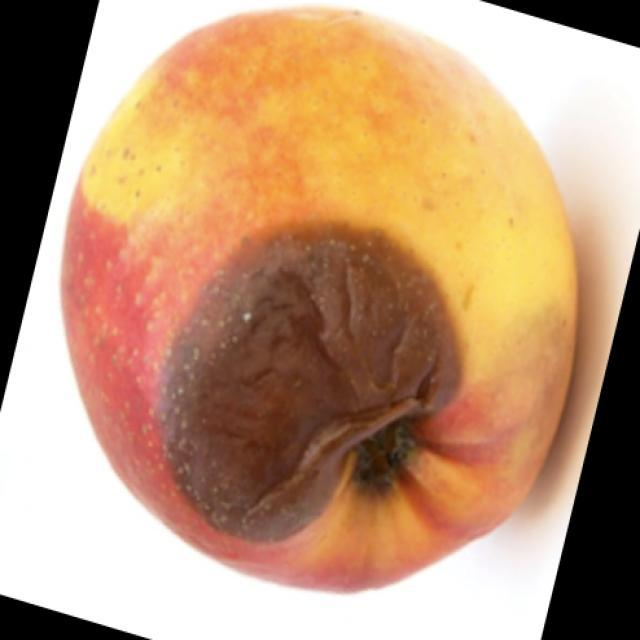Rotten: (80, 23, 577, 590)
